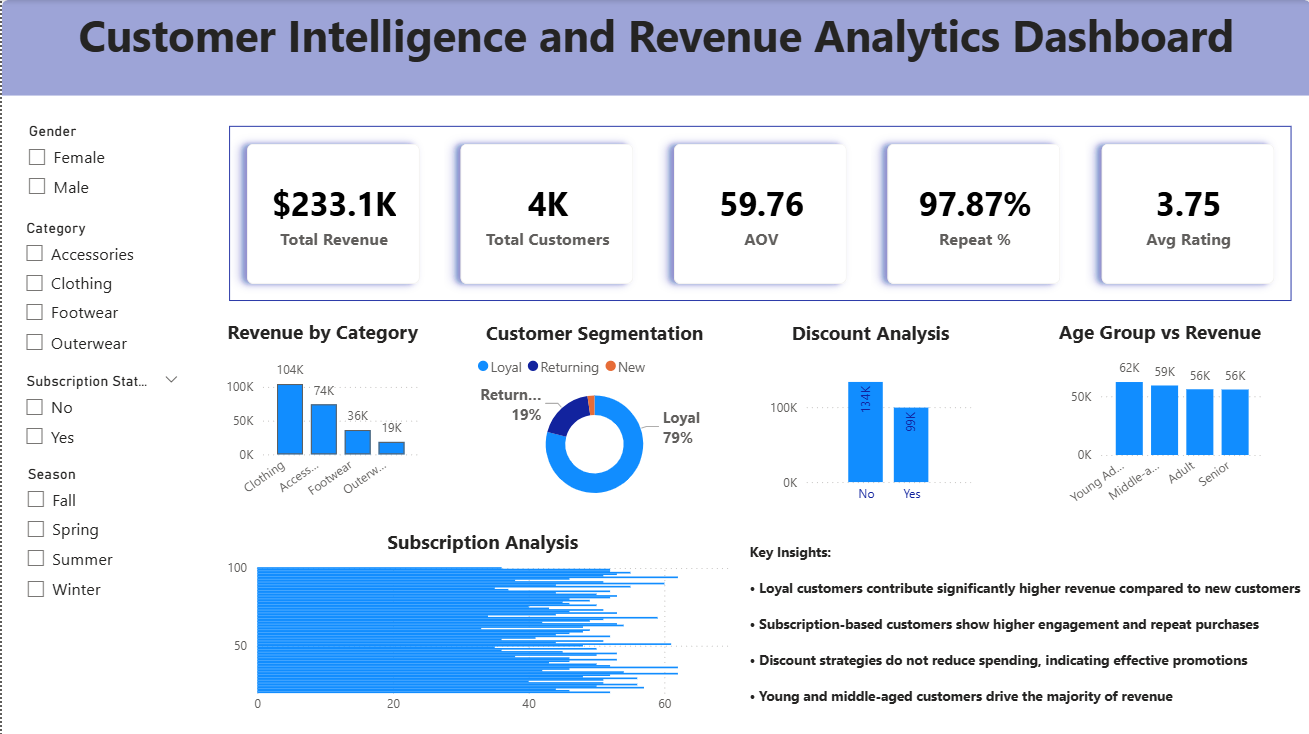

Layout of this report page (visuals, bound fields, positions):
{"tool":"powerbi","page":{"name":"Page 1","canvas":[1280,720],"ordinal":0},"visuals":[{"type":"cardVisual","fields":{"Data":["final_customer_data.Total Revenue","final_customer_data.Total Customers","final_customer_data.AOV","final_customer_data.Repeat %","final_customer_data.Avg Rating"]},"box":[205,106.2,1075,205],"z":0},{"type":"clusteredColumnChart","title":"Revenue by Category","fields":{"Category":["final_customer_data.category"],"Y":["final_customer_data.Total Revenue"]},"box":[213.8,321.2,200,186.2],"z":1000},{"type":"donutChart","title":"Customer Segmentation","fields":{"Category":["final_customer_data.Customer Segment"],"Y":["Sum(final_customer_data.customer_id)"]},"box":[460,312.5,240,188.8],"z":2000},{"type":"columnChart","title":"Age Group vs Revenue","fields":{"Category":["final_customer_data.age_group"],"Y":["final_customer_data.Total Revenue"]},"box":[1026.2,311.2,213.8,192.5],"z":3000},{"type":"columnChart","title":"Discount Analysis","fields":{"Category":["final_customer_data.discount_applied"],"Y":["Sum(final_customer_data.purchase_amount)"]},"box":[746.2,312.5,207.5,188.8],"z":4000},{"type":"barChart","title":"Subscription Analysis","fields":{"Y":["CountNonNull(final_customer_data.subscription_status)"],"Category":["final_customer_data.purchase_amount"]},"box":[213.8,517.5,512.5,190],"z":5000},{"type":"slicer","fields":{"Values":["final_customer_data.gender"]},"box":[13.8,115,173.8,93.8],"z":6000},{"type":"shape","box":[0,0,1280,93.8],"z":7000},{"type":"textbox","box":[0,0,1280,93.8],"z":8000},{"type":"slicer","fields":{"Values":["final_customer_data.category"]},"box":[11.2,208.8,173.8,150],"z":9000},{"type":"slicer","fields":{"Values":["final_customer_data.subscription_status"]},"box":[11.2,360,173.8,110],"z":10000},{"type":"slicer","fields":{"Values":["final_customer_data.season"]},"box":[12.5,450,173.8,152.5],"z":11000},{"type":"textbox","box":[726.2,526.2,553.8,193.8],"z":12000}]}

Visuals, with their boxes in screenshot pixels (x1, y1, x2, y2), scaled from the page's 1280x720 canvas onto the 1309x734 screenshot:
cardVisual - final_customer_data.Total Revenue x final_customer_data.Total Customers: bbox(210, 108, 1308, 317)
"Revenue by Category" clusteredColumnChart: bbox(219, 327, 423, 517)
"Customer Segmentation" donutChart: bbox(470, 319, 716, 511)
"Age Group vs Revenue" columnChart: bbox(1049, 317, 1268, 513)
"Discount Analysis" columnChart: bbox(763, 319, 975, 511)
"Subscription Analysis" barChart: bbox(219, 528, 743, 721)
slicer - final_customer_data.gender: bbox(14, 117, 192, 213)
shape: bbox(0, 0, 1308, 96)
textbox: bbox(0, 0, 1308, 96)
slicer - final_customer_data.category: bbox(11, 213, 189, 366)
slicer - final_customer_data.subscription_status: bbox(11, 367, 189, 479)
slicer - final_customer_data.season: bbox(13, 459, 191, 614)
textbox: bbox(743, 536, 1308, 733)
